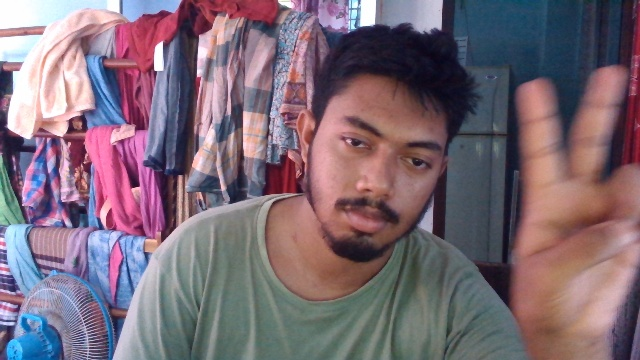thanks: (509, 64, 640, 332)
